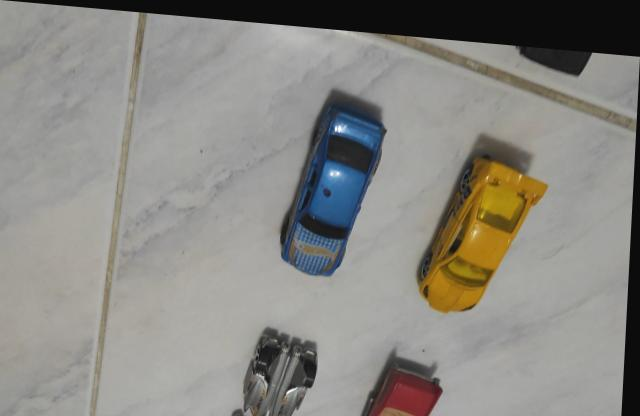01_FORD: (516, 36, 593, 66)
03_V8: (361, 349, 448, 416)
04_MERZEDES: (281, 81, 388, 271)
05_DC121: (232, 323, 322, 416)
07_RHLTURBO: (418, 146, 551, 304)
